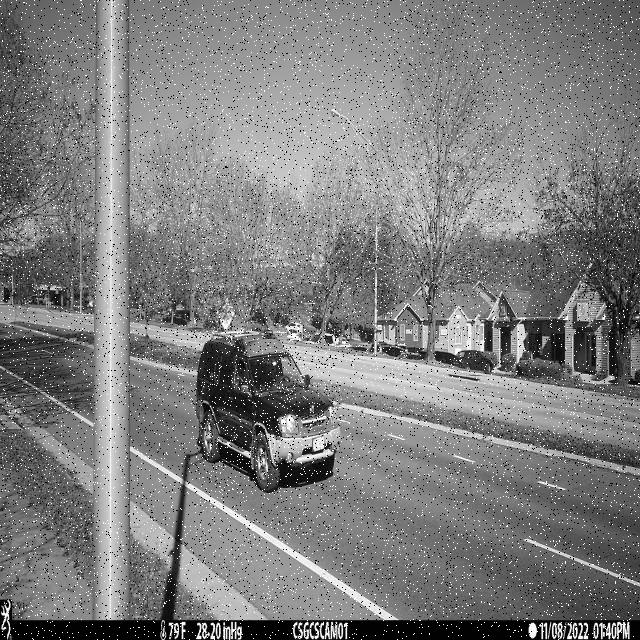SUV: (195, 329, 341, 494)
